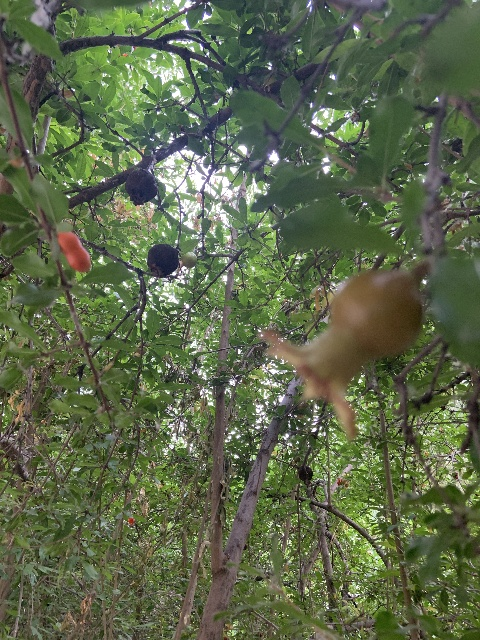bud: (57, 230, 90, 273)
early-fruit: (263, 269, 424, 440)
mid-growth: (178, 251, 196, 269)
